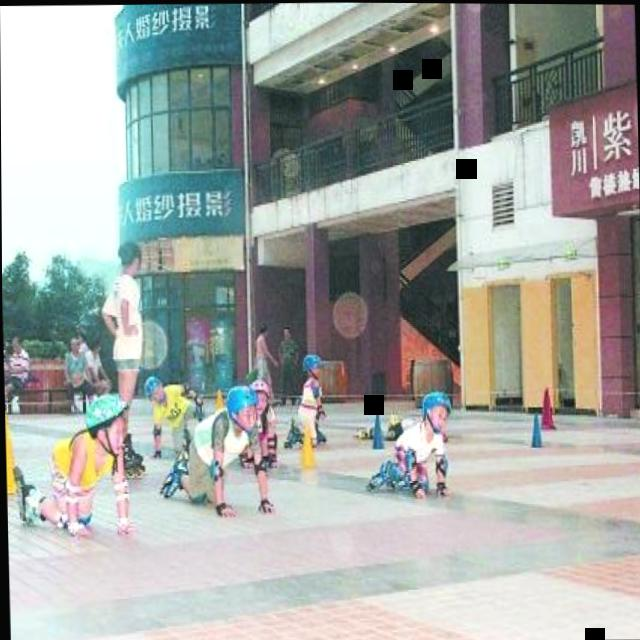Fall-Detected: (283, 340, 329, 449)
